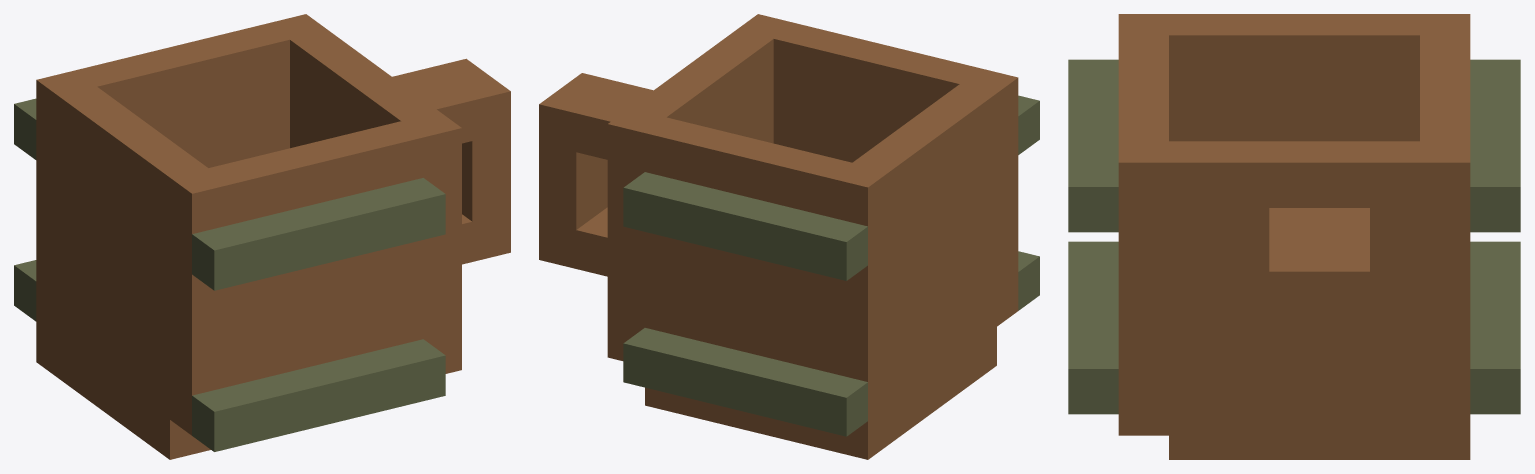
Rendered from bark_cup.glb.
The picture shows the model from 3 angles, left to right: view 1: azimuth 30°, elevation 25°; view 2: azimuth 150°, elevation 25°; view 3: azimuth 270°, elevation 25°; orthographic projection. The views are drawn at different scales.
Parts seen in each view (by area): view 1: bark_cup/tool; view 2: bark_cup/tool; view 3: bark_cup/tool.
Boxes of the visible parts, x1,y1,x2,y2 form: bark_cup/tool: (14, 14, 510, 459); bark_cup/tool: (539, 14, 1039, 459); bark_cup/tool: (1068, 14, 1520, 459).
Size of the model in its own units: 0.3125 by 0.2188 by 0.2812.
